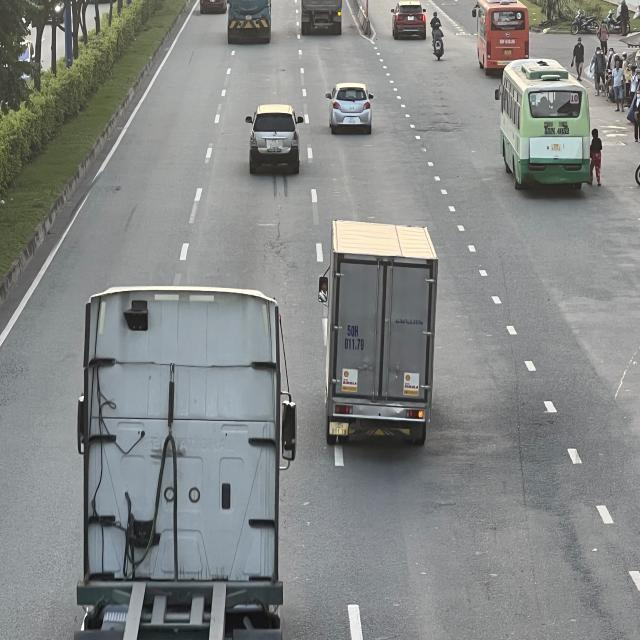car: (246, 105, 304, 175), (326, 79, 374, 133), (389, 0, 426, 43)
coach: (494, 55, 592, 194), (475, 1, 530, 73)
container: (75, 286, 293, 640)
truck: (318, 215, 437, 446)
